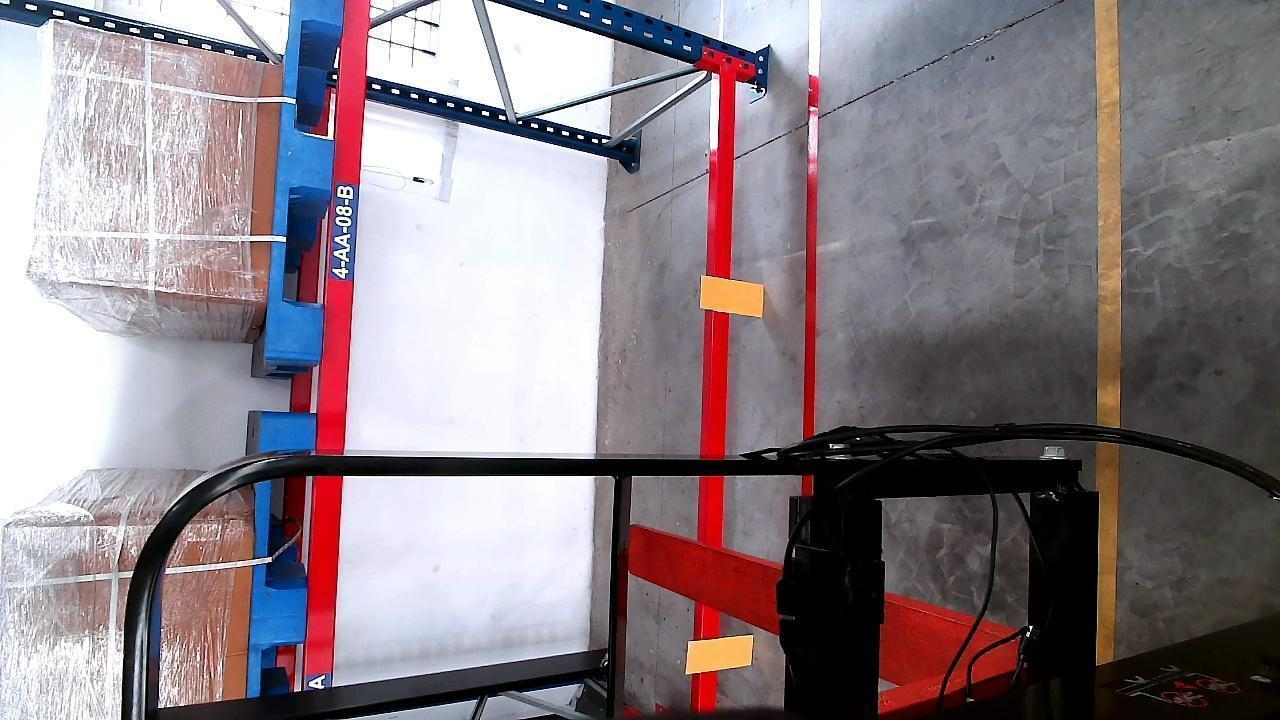red_line: (806, 0, 820, 489)
yellow_line: (1094, 1, 1122, 668)
